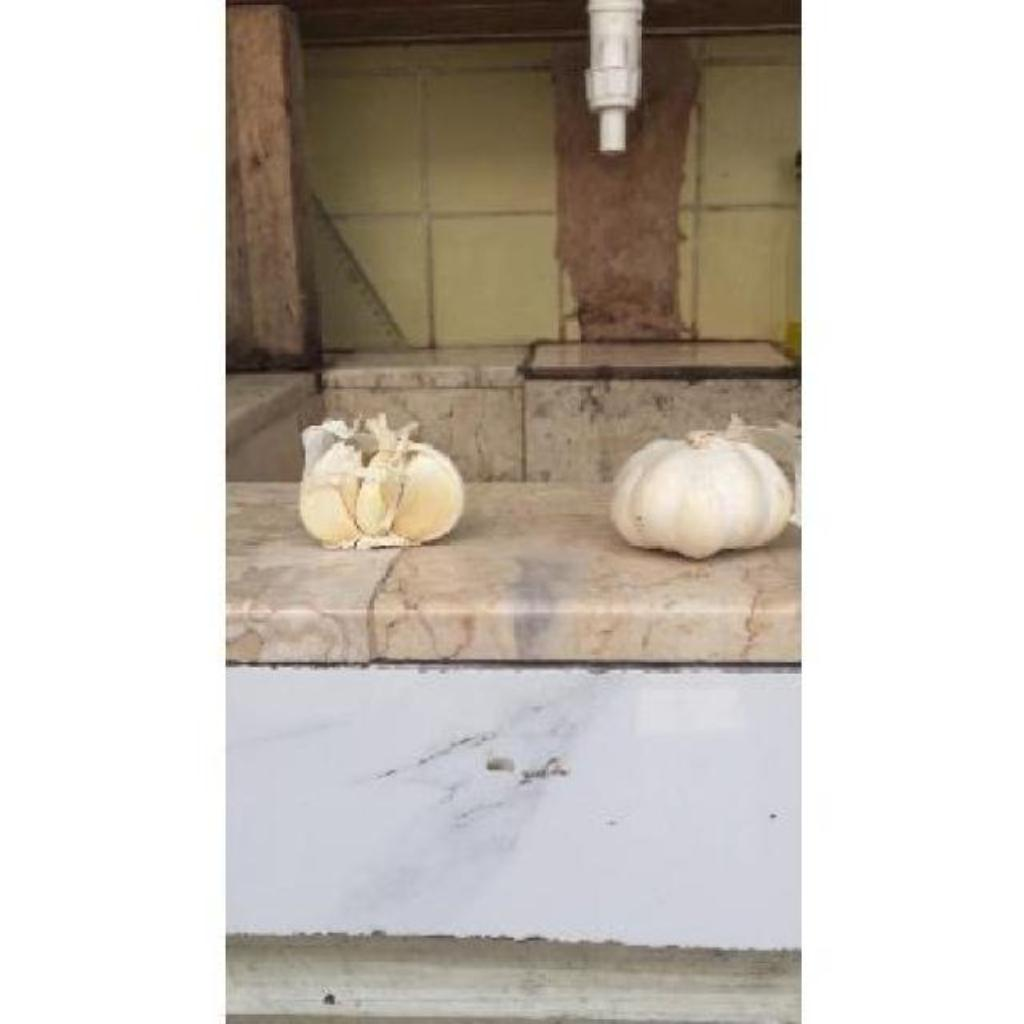garlic: (612, 432, 792, 557), (300, 414, 464, 548)
